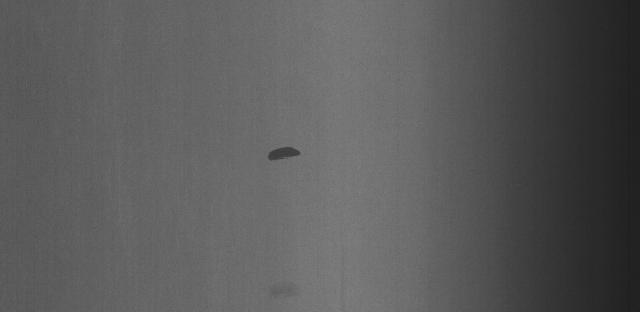oil_spot: (264, 134, 322, 166)
